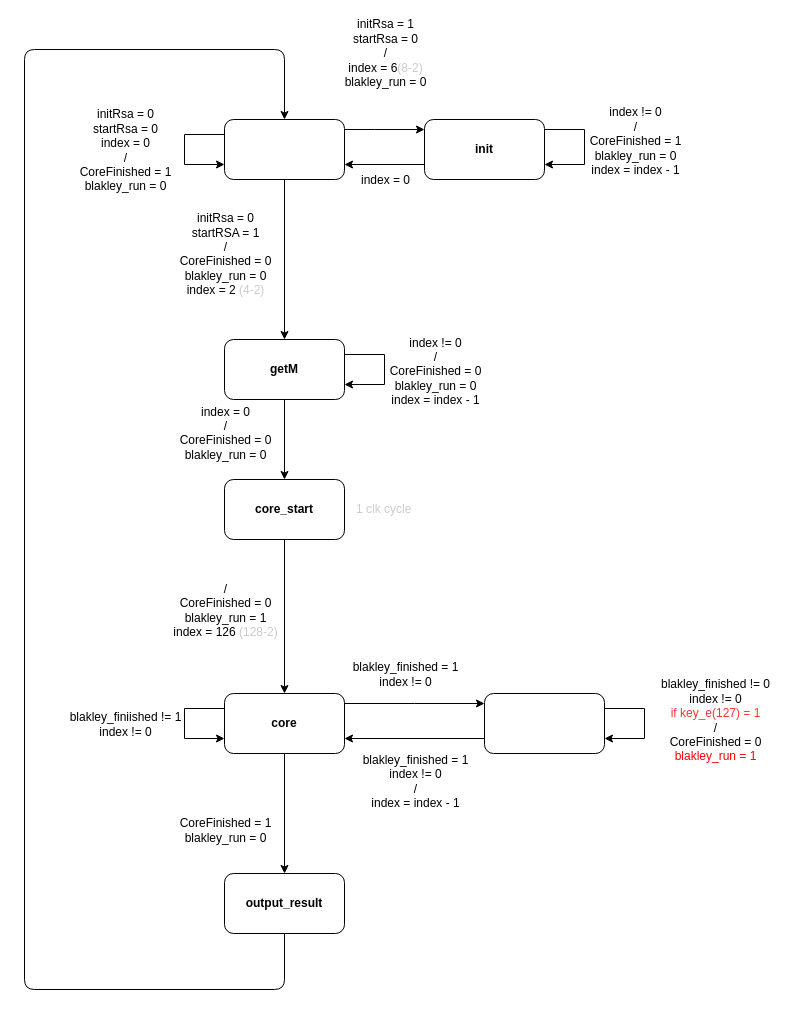
Some shapes in this 787 by 1015 pixel diagram are drawn without their labels. Each missing label, with the centre of its shape:
core2: point 544,723
idle: point 284,149
